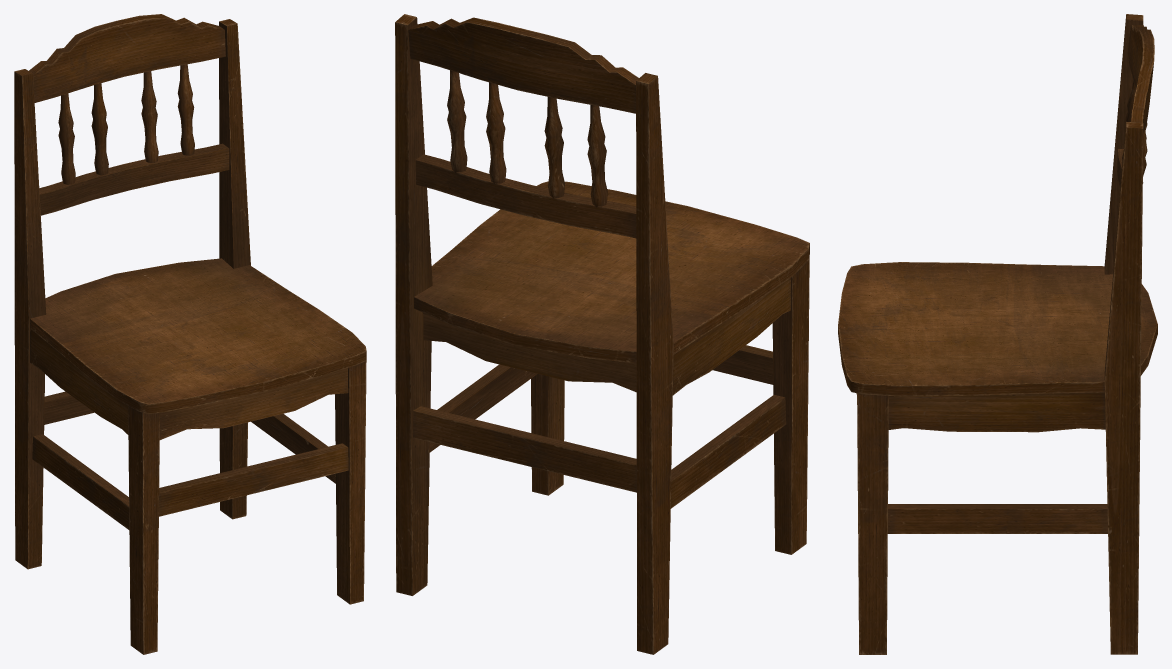
The model's file is chair.glb.
3 renders of one model, left to right at view 1: azimuth 30°, elevation 25°; view 2: azimuth 150°, elevation 25°; view 3: azimuth 270°, elevation 25°, orthographic. The views are drawn at different scales.
Visible parts, largest first — view 1: old_wooden_chair; view 2: old_wooden_chair; view 3: old_wooden_chair.
Part boxes in pixels (left/top/right/bottom): old_wooden_chair: left=14, top=14, right=366, bottom=654; old_wooden_chair: left=395, top=14, right=809, bottom=654; old_wooden_chair: left=838, top=14, right=1157, bottom=654.
Size of the model in its own units: 0.8377 by 1.72 by 0.9131.
Materials: 1 (1 with a texture image).
